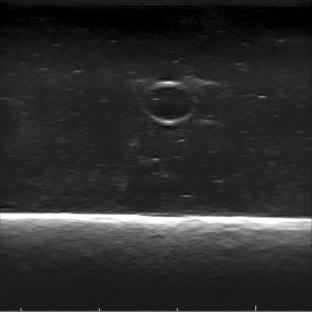vessel: (140, 80, 195, 125)
